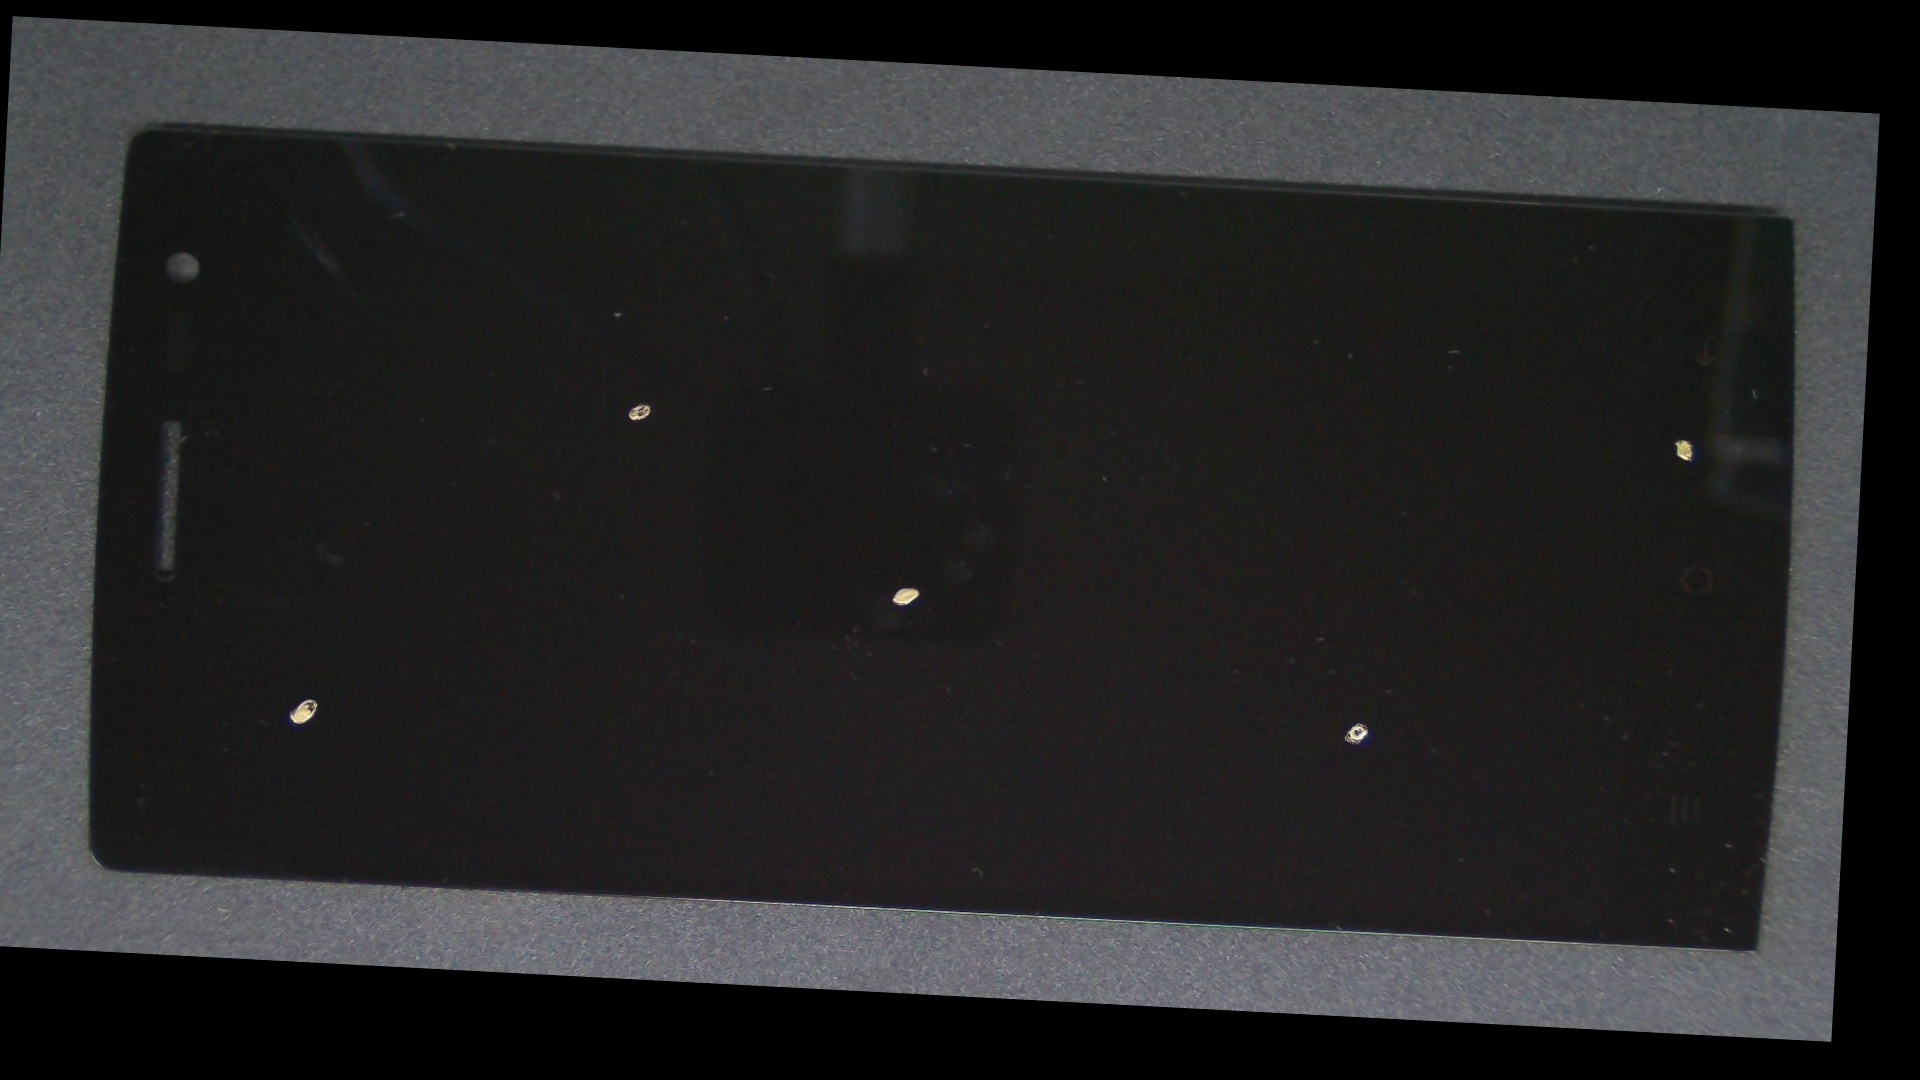oil: (654, 368, 1863, 1042), (435, 301, 1386, 872), (829, 227, 1871, 616), (310, 208, 971, 596), (132, 356, 496, 971)
